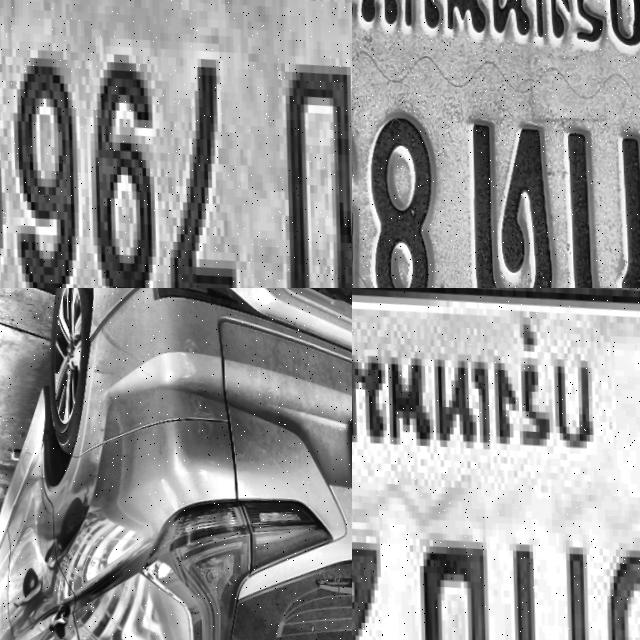license-plate: (0, 0, 352, 288), (352, 288, 640, 640), (352, 0, 640, 288)
